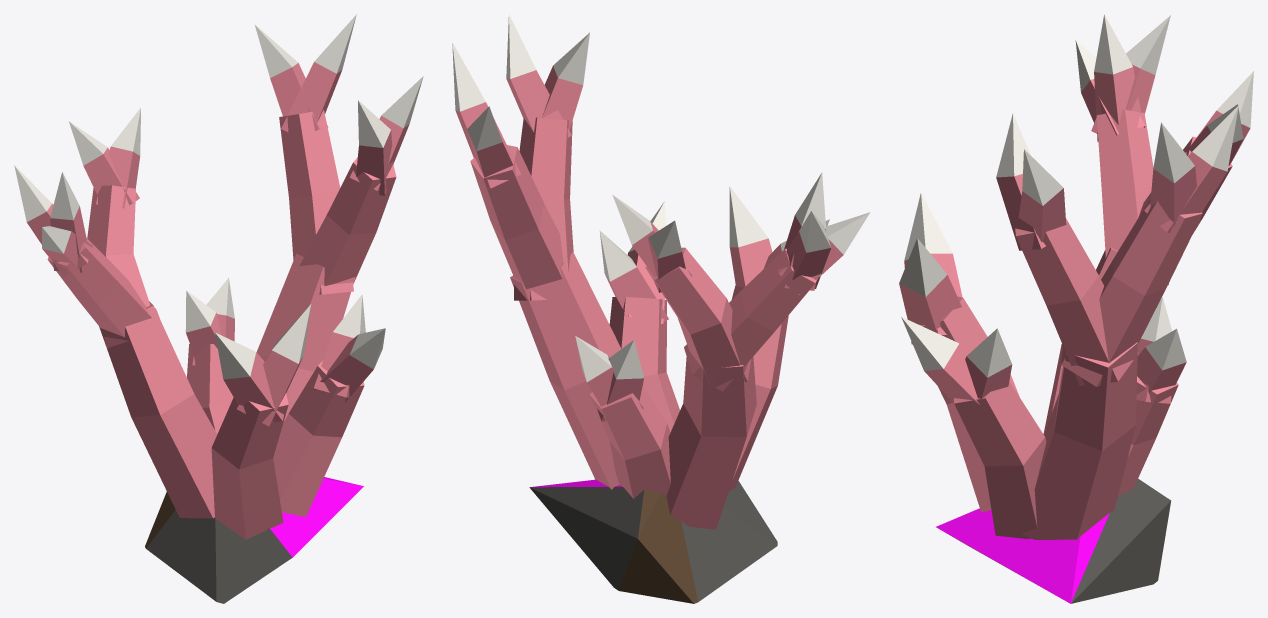
The model's file is coral_a.glb.
The picture shows the model from 3 angles, left to right: view 1: azimuth 30°, elevation 25°; view 2: azimuth 150°, elevation 25°; view 3: azimuth 270°, elevation 25°; orthographic projection. The views are drawn at different scales.
Visible parts, largest first — view 1: coral_a__mesh; view 2: coral_a__mesh; view 3: coral_a__mesh.
Boxes of the visible parts, x1,y1,x2,y2 form: coral_a__mesh: [14, 14, 423, 603]; coral_a__mesh: [452, 14, 870, 603]; coral_a__mesh: [899, 14, 1253, 603].
Size of the model in its own units: 0.8186 by 1.03 by 0.6106.
Materials: 1 (1 with a texture image).
